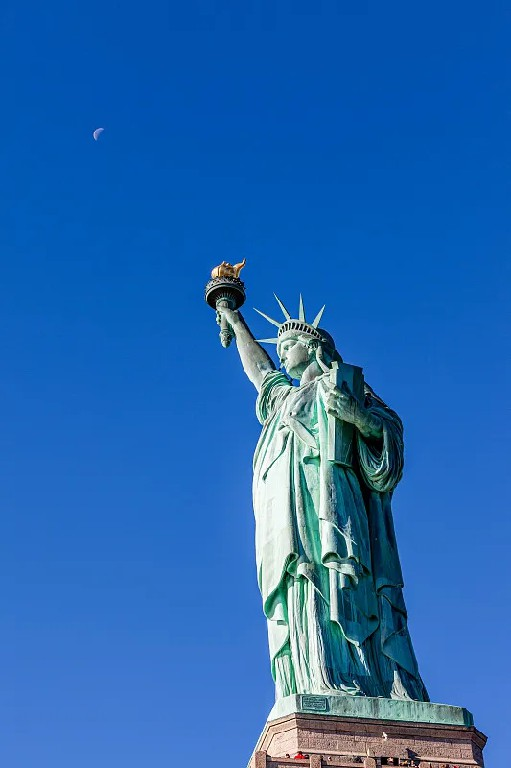SL: (204, 256, 487, 768)
